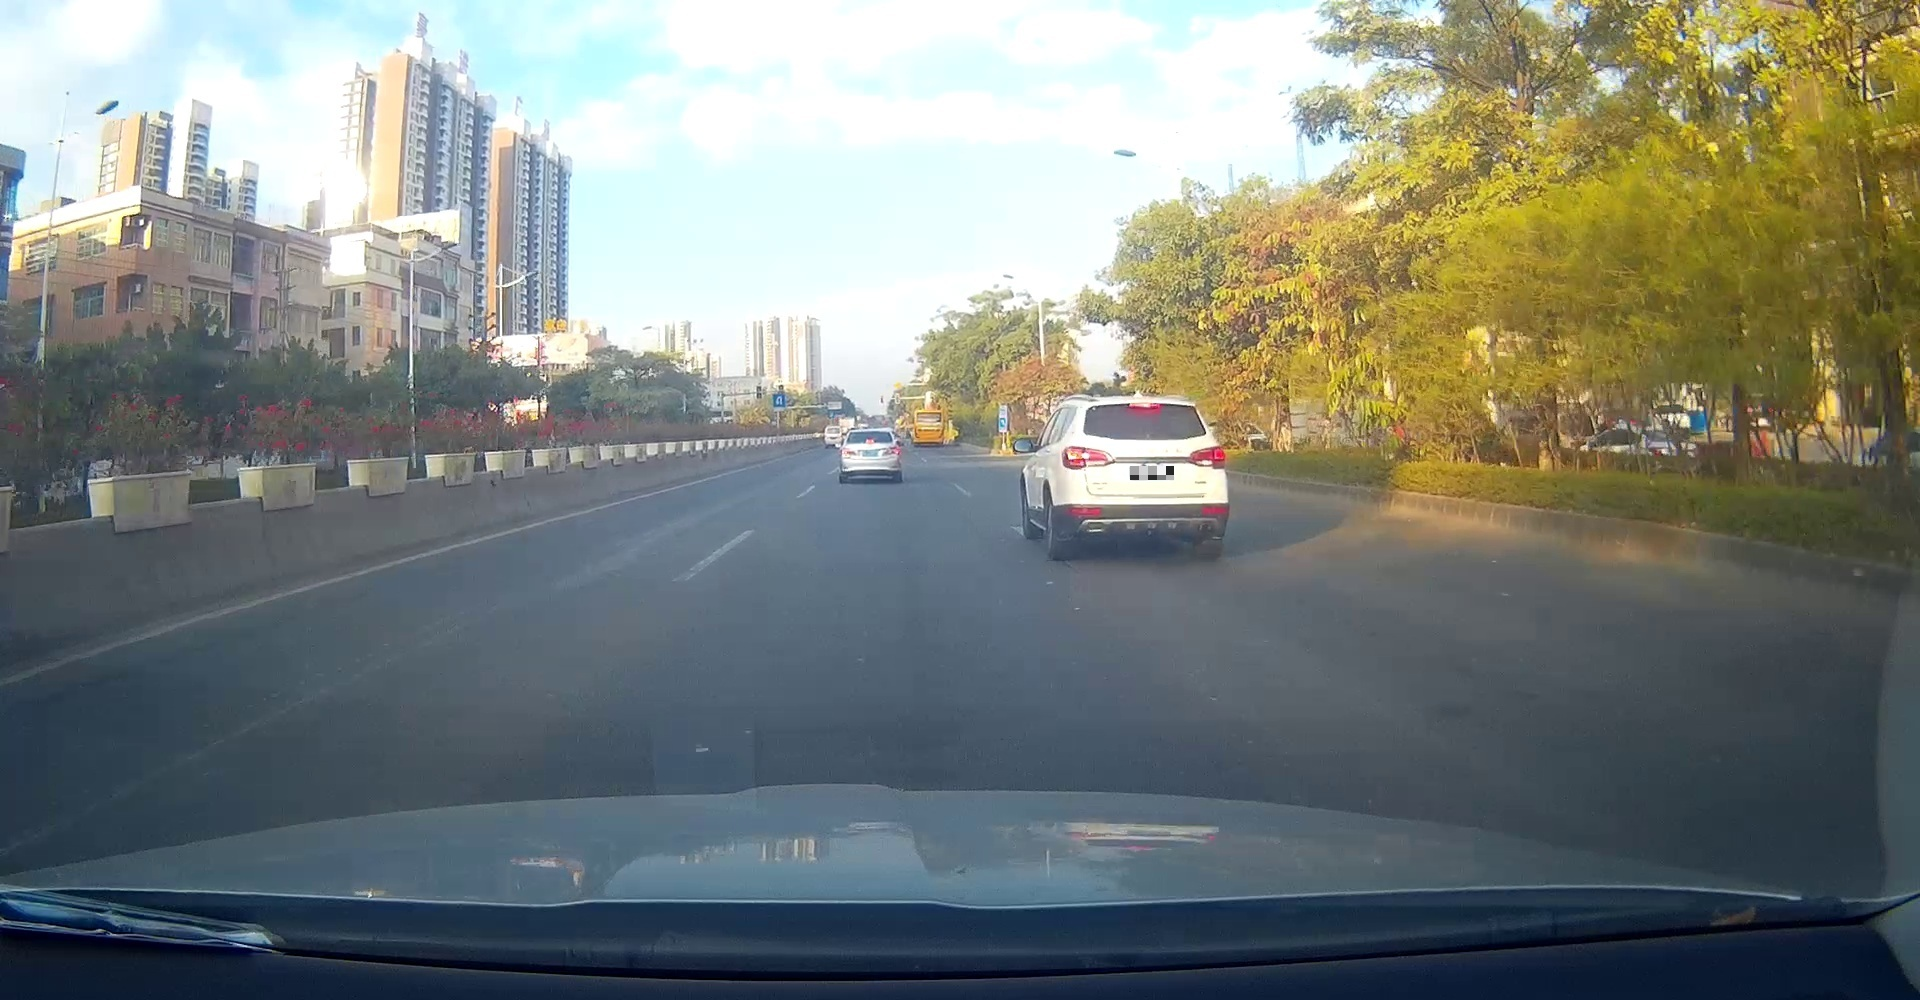L_light: (1062, 445, 1115, 470), (841, 449, 855, 456)
R_light: (1189, 445, 1227, 470), (888, 447, 900, 454)
T_light: (1128, 404, 1161, 410), (865, 439, 875, 444)
day-brake: (1060, 396, 1229, 558), (841, 428, 902, 482)
plate_1: (1130, 466, 1175, 480)
